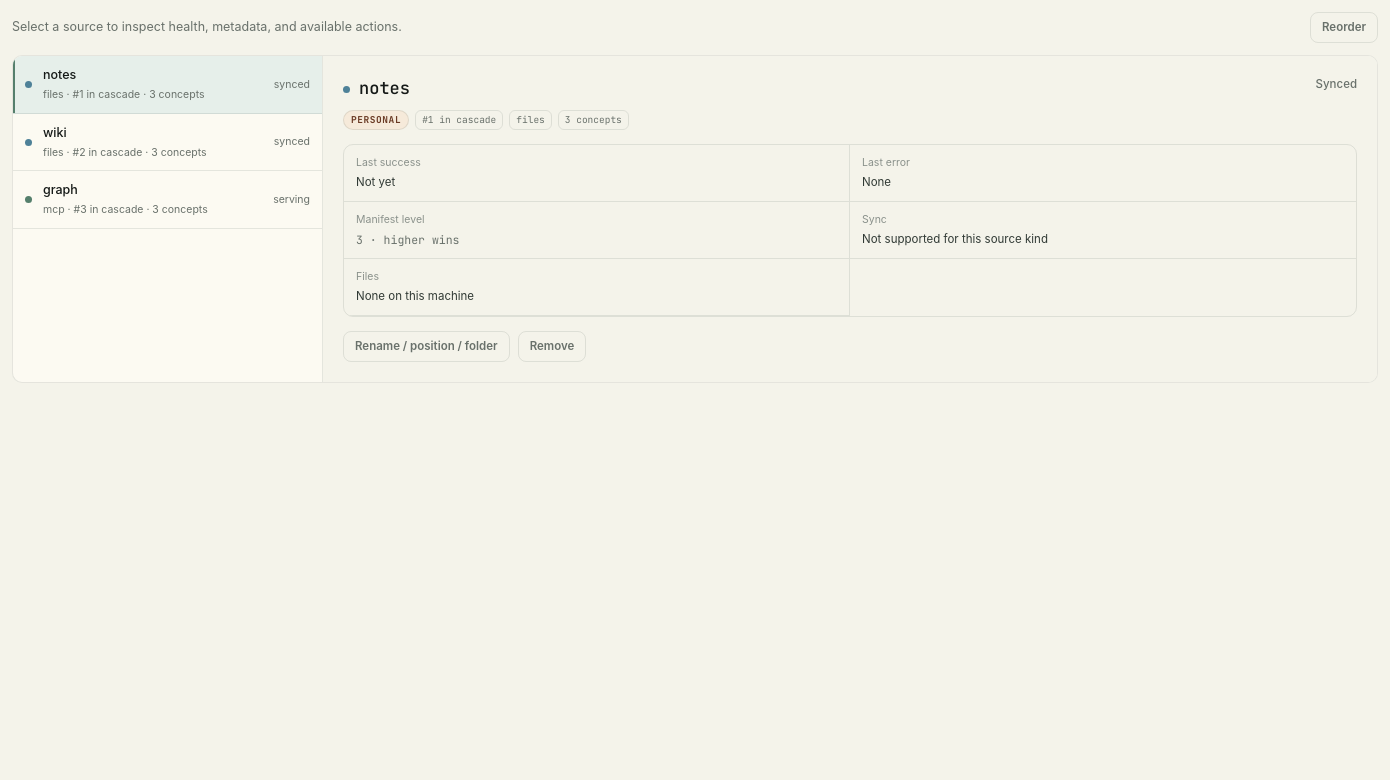
Test: Sources rename + reposition › clamps a chosen position the shrunken cascade can no longer offer, and saves what the select showed
Click the button "Rename / position / folder" at (426, 347), box [343,331,510,362]
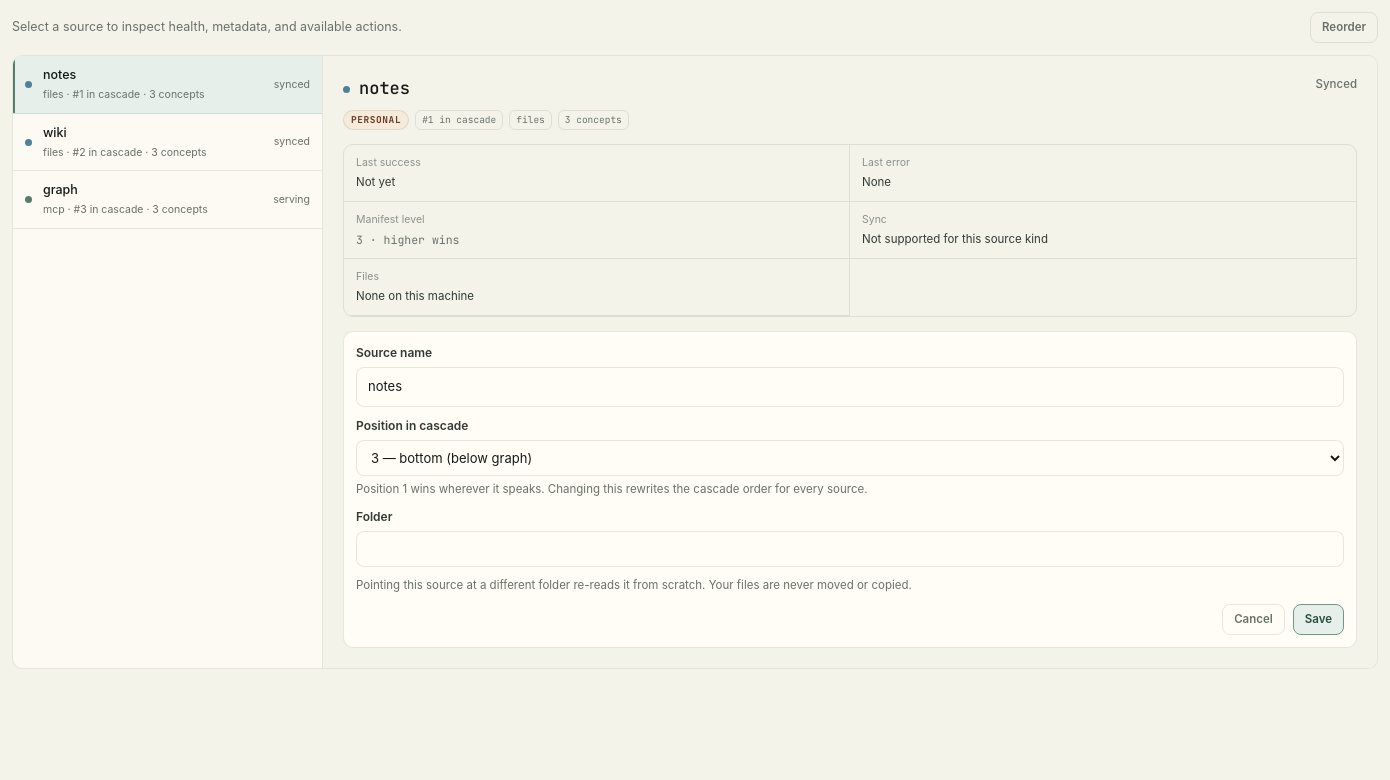
Select "3 — bottom (below graph)" in the dropdown with id "src-edit-position" at (850, 458), box [356,440,1344,476]
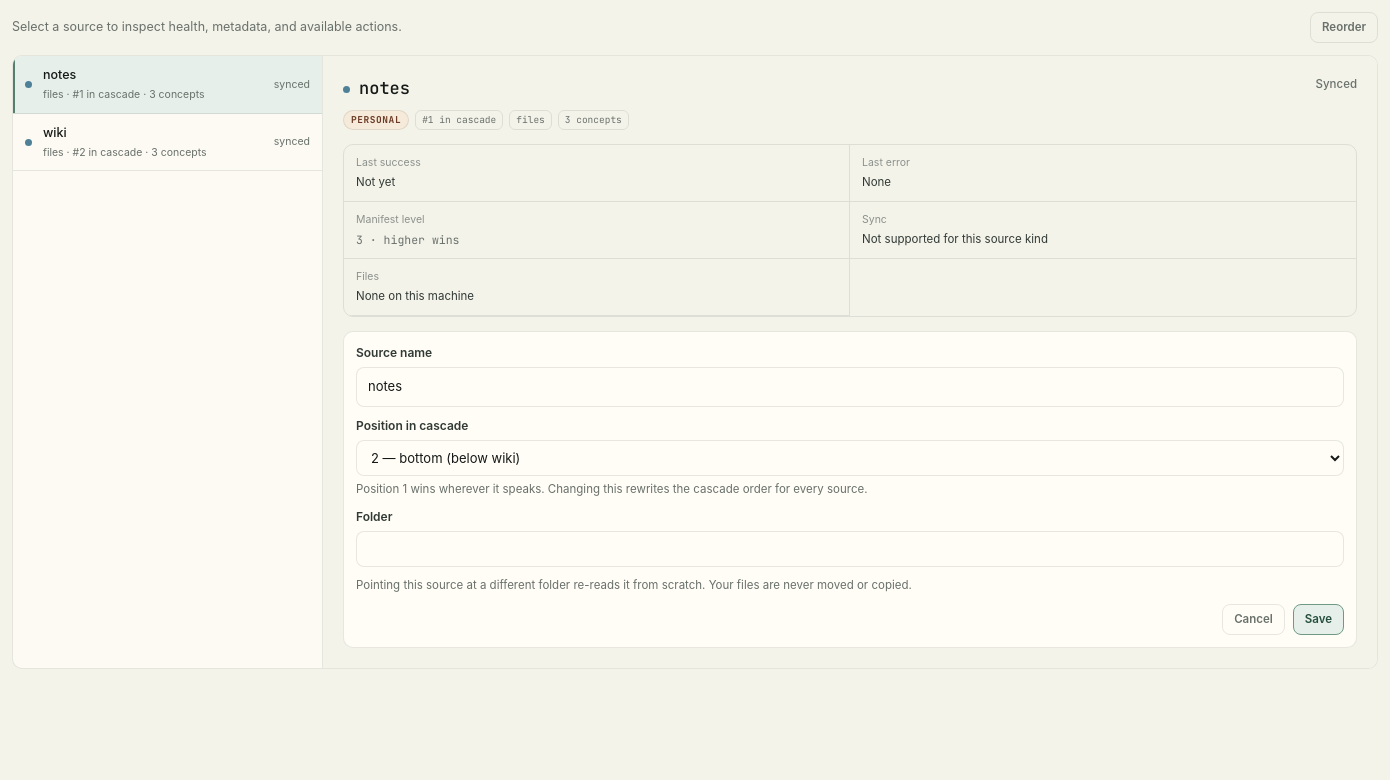
Click the button "Save" at (1318, 620), box [1293,604,1344,635]
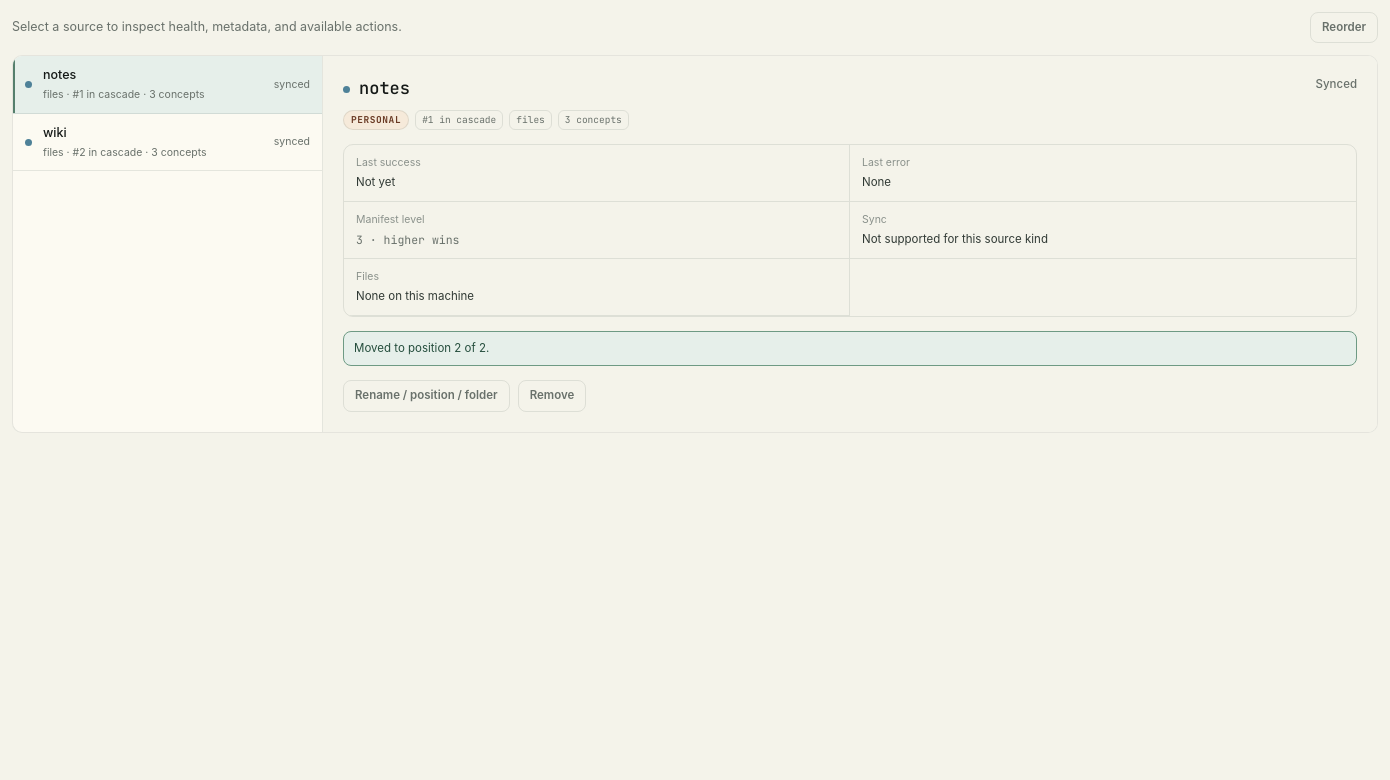
Expected: the text "Moved to position 2 of 2." is shown, [343,331,1357,366]
